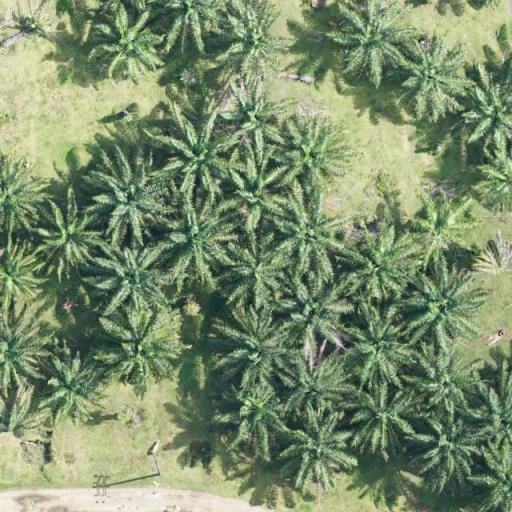Ganoderma: (415, 204, 462, 252)
